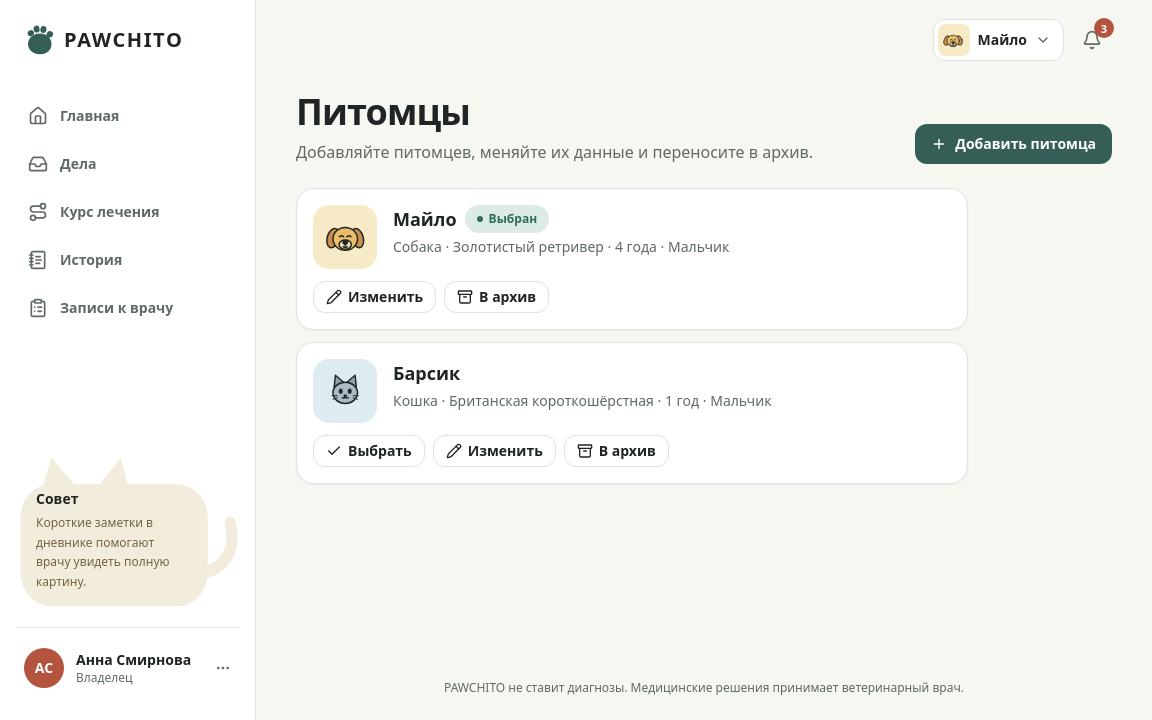
Scenario: PetsPage: добавление и изменение › изменение: карточка обновлена, статус
The width and height of the screenshot is (1152, 720).
Click the button named "Изменить, Барсик". click: (494, 451)
box: top-left (433, 435), bottom-right (556, 467)
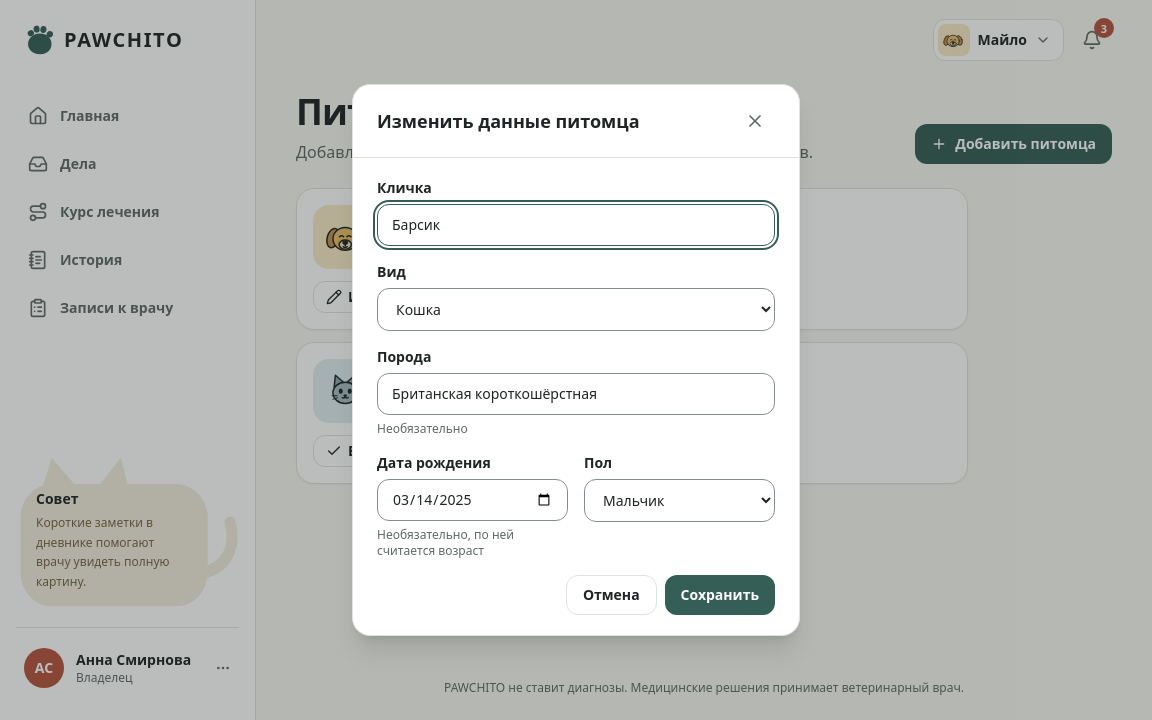
Replace the text in the field labelled "Порода" with "Сибирская". click: (576, 394)
box: top-left (377, 373), bottom-right (775, 415)
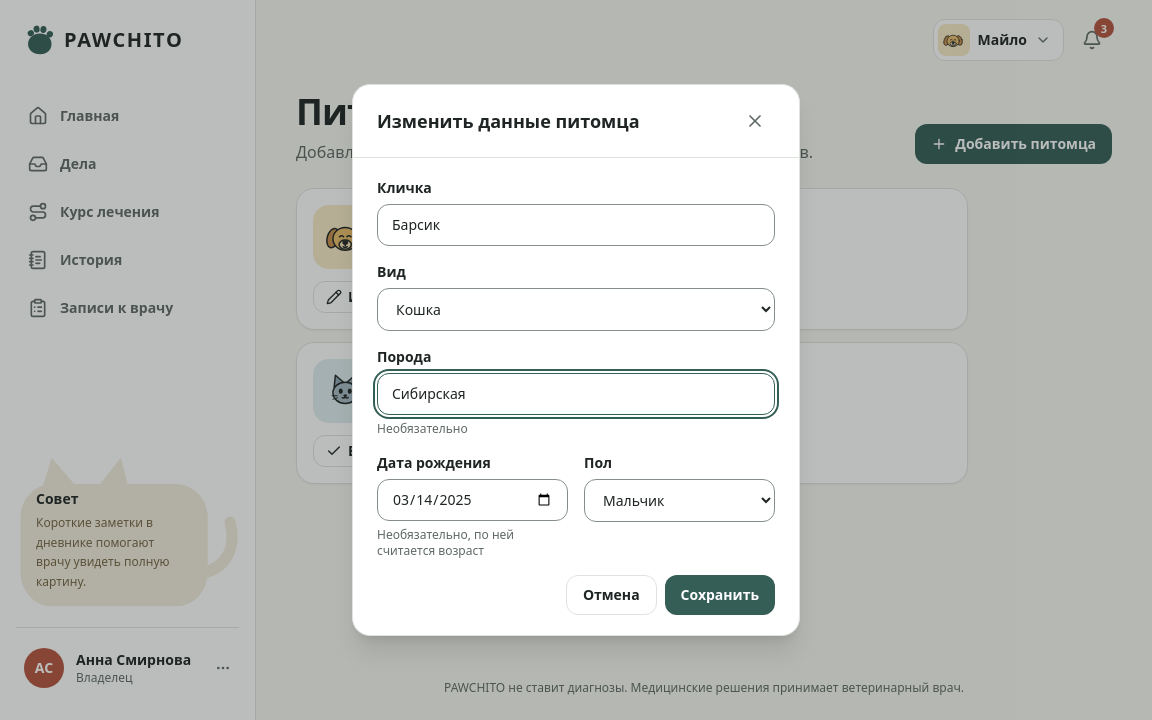
Click the button "Сохранить". click: (720, 595)
box: top-left (665, 575), bottom-right (775, 615)
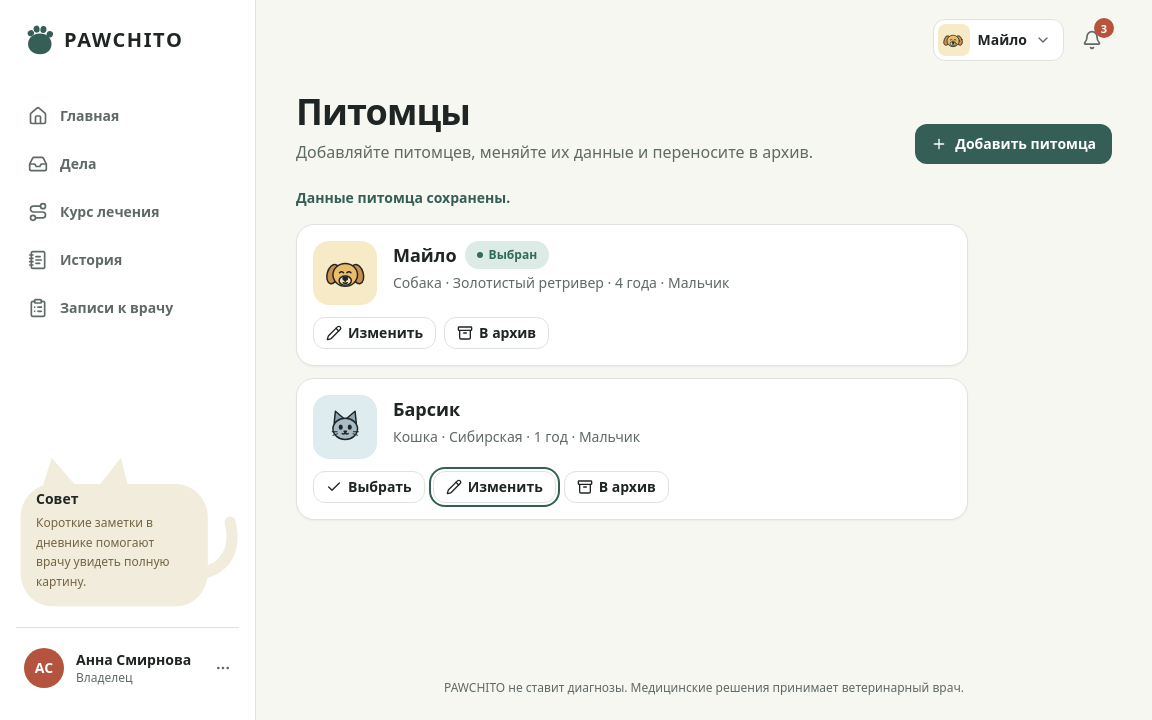
Now the text "Данные питомца сохранены." is shown, box top-left (296, 188), bottom-right (510, 207)
Now the text "Кошка · Сибирская · 1 год · Мальчик" is shown, box top-left (393, 427), bottom-right (640, 446)
